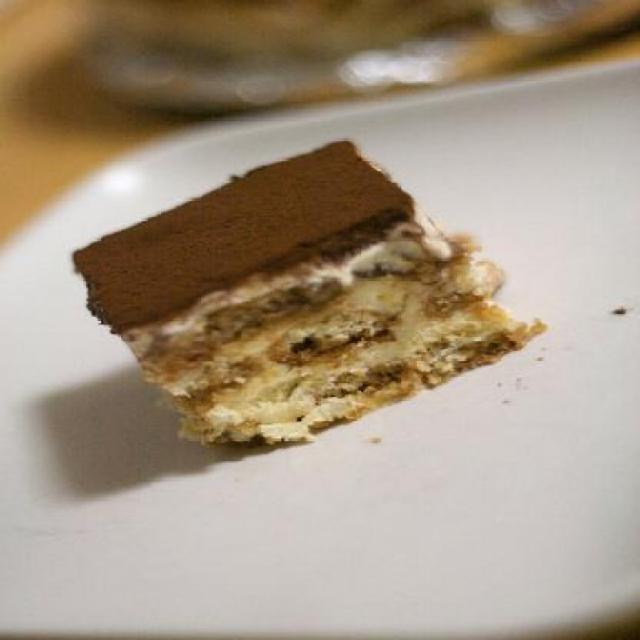Tiramisu: (37, 145, 586, 444)
